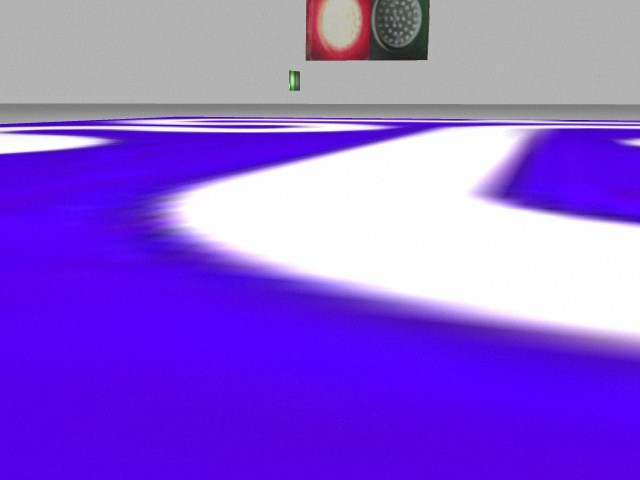red: (305, 2, 369, 60)
